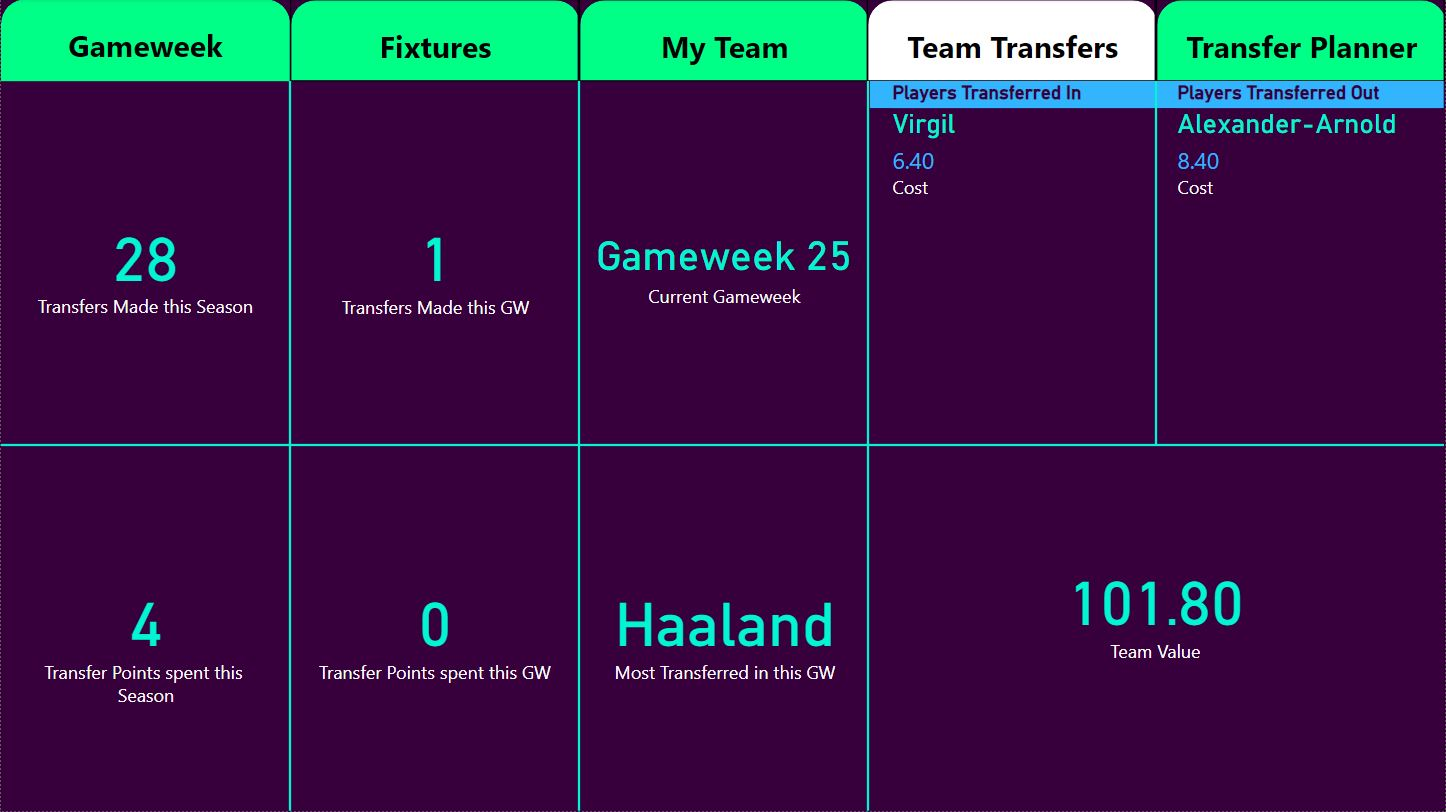

The page's visual inventory and layout, read from the dashboard file:
{"tool":"powerbi","page":{"name":"Team Transfers","canvas":[1280,720],"ordinal":3},"visuals":[{"type":"shape","box":[0,0,256.5,73.4],"z":0},{"type":"shape","box":[256.3,0,256,72.7],"z":1000},{"type":"shape","box":[512.9,0,256.5,73.4],"z":2000},{"type":"shape","box":[768,0,256.5,73.4],"z":3000},{"type":"shape","box":[1024,0,256.5,73.4],"z":4000},{"type":"card","fields":{"Values":["CountNonNull(dbt_marts my_team_transfers.id)"]},"box":[0,72.8,256,323],"z":5000},{"type":"card","fields":{"Values":["CountNonNull(dbt_marts my_team_transfers.id)"]},"box":[256,72.8,258.1,323.5],"z":6000},{"type":"multiRowCard","title":"Players Transferred In","fields":{"Values":["dbt_marts my_team_transfers.player_in","Sum(dbt_marts my_team_transfers.player_in_cost)"]},"box":[770.1,72.8,253.9,323.5],"z":7000},{"type":"card","fields":{"Values":["Sum(dbt_marts my_team.gameweek_transfers_point_cost)"]},"box":[0,396.3,257.1,323.5],"z":8000},{"type":"card","fields":{"Values":["Sum(dbt_marts my_team.gameweek_transfers_point_cost)"]},"box":[256,396.3,257.1,323.5],"z":9000},{"type":"card","fields":{"Values":["Min(dbt_marts my_team_transfers.most_transferred_in)"]},"box":[513.1,396.3,257.1,323.5],"z":10000},{"type":"actionButton","box":[571.9,25.3,136.2,38.9],"z":11000},{"type":"actionButton","box":[1041.7,25.3,219.8,38.9],"z":12000},{"type":"actionButton","box":[53.5,25.3,150.8,38.9],"z":13000},{"type":"card","fields":{"Values":["Min(dbt_marts gameweek_info.gameweek_name)"]},"box":[513.1,73.9,256,322.4],"z":14000},{"type":"multiRowCard","title":"Players Transferred Out","fields":{"Values":["My Team Transfers.player_out","Sum(My Team Transfers.player_out_cost)"]},"box":[1022.9,72.8,256,323.5],"z":15000},{"type":"card","title":" ","fields":{"Values":["Sum(My Team.team_value)"]},"box":[769.1,359.9,509.9,359.9],"z":16000},{"type":"shape","box":[250,72.7,12.4,647.3],"z":16001},{"type":"shape","box":[506.3,72.7,12.4,647.3],"z":16002},{"type":"shape","box":[762.6,72.7,12.4,647.3],"z":16003},{"type":"shape","box":[0,384.8,1279.5,21.3],"z":16004},{"type":"shape","box":[1017.9,72.7,12.4,323.6],"z":16005}]}

Visuals, with their boxes in screenshot pixels (x1, y1, x2, y2), scaled from the page's 1280x720 canvas onto the 1446x812 screenshot:
shape: rect(0, 0, 290, 83)
shape: rect(290, 0, 579, 82)
shape: rect(579, 0, 869, 83)
shape: rect(868, 0, 1157, 83)
shape: rect(1157, 0, 1445, 83)
card - CountNonNull(dbt_marts my_team_transfers.id): rect(0, 82, 289, 446)
card - CountNonNull(dbt_marts my_team_transfers.id): rect(289, 82, 581, 447)
"Players Transferred In" multiRowCard: rect(870, 82, 1157, 447)
card - Sum(dbt_marts my_team.gameweek_transfers_point_cost): rect(0, 447, 290, 811)
card - Sum(dbt_marts my_team.gameweek_transfers_point_cost): rect(289, 447, 580, 811)
card - Min(dbt_marts my_team_transfers.most_transferred_in): rect(580, 447, 870, 811)
actionButton: rect(646, 29, 800, 72)
actionButton: rect(1177, 29, 1425, 72)
actionButton: rect(60, 29, 231, 72)
card - Min(dbt_marts gameweek_info.gameweek_name): rect(580, 83, 869, 447)
"Players Transferred Out" multiRowCard: rect(1156, 82, 1445, 447)
" " card: rect(869, 406, 1445, 811)
shape: rect(282, 82, 296, 811)
shape: rect(572, 82, 586, 811)
shape: rect(861, 82, 876, 811)
shape: rect(0, 434, 1445, 458)
shape: rect(1150, 82, 1164, 447)
